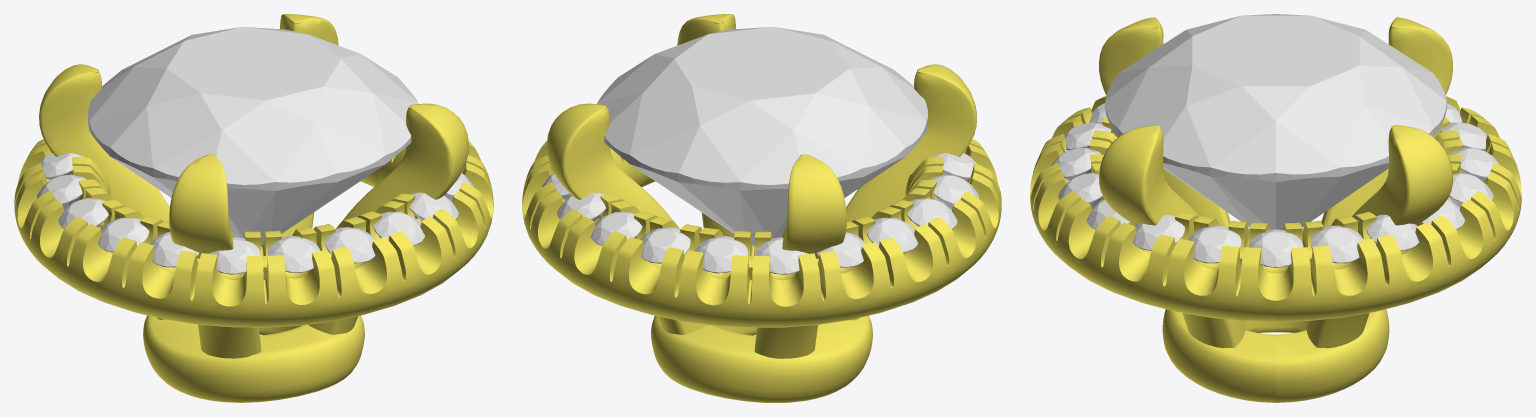
Rendered from head_005_10_1.glb.
3 views of the same model, side by side, from view 1: azimuth 30°, elevation 25°; view 2: azimuth 150°, elevation 25°; view 3: azimuth 270°, elevation 25° (orthographic). The views are drawn at different scales.
Visible parts, largest first — view 1: Metal 01_Object_1, Gem_Diamond_Round, Gem_Diamond_Round_11, Gem_Diamond_Round_12, Gem_Diamond_Round_8, Gem_Diamond_Round_13, Gem_Diamond_Round_10, Gem_Diamond_Round_7, Gem_Diamond_Round_6, Gem_Diamond_Round_14, Gem_Diamond_Round_9, Gem_Diamond_Round_5; view 2: Metal 01_Object_1, Gem_Diamond_Round, Gem_Diamond_Round_3, Gem_Diamond_Round_2, Gem_Diamond_Round_6, Gem_Diamond_Round_21, Gem_Diamond_Round_4, Gem_Diamond_Round_7, Gem_Diamond_Round_8, Gem_Diamond_Round_5, Gem_Diamond_Round_20, Gem_Diamond_Round_9; view 3: Metal 01_Object_1, Gem_Diamond_Round, Gem_Diamond_Round_17, Gem_Diamond_Round_16, Gem_Diamond_Round_18, Gem_Diamond_Round_15, Gem_Diamond_Round_19, Gem_Diamond_Round_2, Gem_Diamond_Round_12, Gem_Diamond_Round_21, Gem_Diamond_Round_13, Gem_Diamond_Round_11 (+3 smaller).
Boxes of the visible parts, <box> form: Metal 01_Object_1: <box>14,14,493,402</box>; Gem_Diamond_Round: <box>88,27,418,246</box>; Gem_Diamond_Round_11: <box>268,236,320,272</box>; Gem_Diamond_Round_12: <box>325,227,375,263</box>; Gem_Diamond_Round_8: <box>98,217,149,252</box>; Gem_Diamond_Round_13: <box>373,211,424,245</box>; Gem_Diamond_Round_10: <box>208,237,260,274</box>; Gem_Diamond_Round_7: <box>58,198,108,228</box>; Gem_Diamond_Round_6: <box>37,174,86,209</box>; Gem_Diamond_Round_14: <box>409,192,458,221</box>; Gem_Diamond_Round_9: <box>150,232,199,267</box>; Gem_Diamond_Round_5: <box>39,153,84,180</box>; Metal 01_Object_1: <box>522,14,1001,402</box>; Gem_Diamond_Round: <box>597,27,927,246</box>; Gem_Diamond_Round_3: <box>695,236,747,273</box>; Gem_Diamond_Round_2: <box>640,227,690,263</box>; Gem_Diamond_Round_6: <box>866,217,918,252</box>; Gem_Diamond_Round_21: <box>590,211,642,245</box>; Gem_Diamond_Round_4: <box>755,237,808,274</box>; Gem_Diamond_Round_7: <box>907,198,957,228</box>; Gem_Diamond_Round_8: <box>929,174,979,209</box>; Gem_Diamond_Round_5: <box>816,232,866,267</box>; Gem_Diamond_Round_20: <box>557,192,606,221</box>; Gem_Diamond_Round_9: <box>931,153,976,180</box>; Metal 01_Object_1: <box>1030,17,1521,402</box>; Gem_Diamond_Round: <box>1105,14,1446,229</box>; Gem_Diamond_Round_17: <box>1248,229,1303,267</box>; Gem_Diamond_Round_16: <box>1188,225,1241,263</box>; Gem_Diamond_Round_18: <box>1310,225,1363,263</box>; Gem_Diamond_Round_15: <box>1132,214,1184,250</box>; Gem_Diamond_Round_19: <box>1367,214,1419,250</box>; Gem_Diamond_Round_2: <box>1451,147,1500,181</box>; Gem_Diamond_Round_12: <box>1051,147,1100,181</box>; Gem_Diamond_Round_21: <box>1449,172,1493,207</box>; Gem_Diamond_Round_13: <box>1058,172,1102,207</box>; Gem_Diamond_Round_11: <box>1064,122,1111,150</box>.
Bounding box in the file's own units: 0.9376 × 0.6553 × 0.9372.
